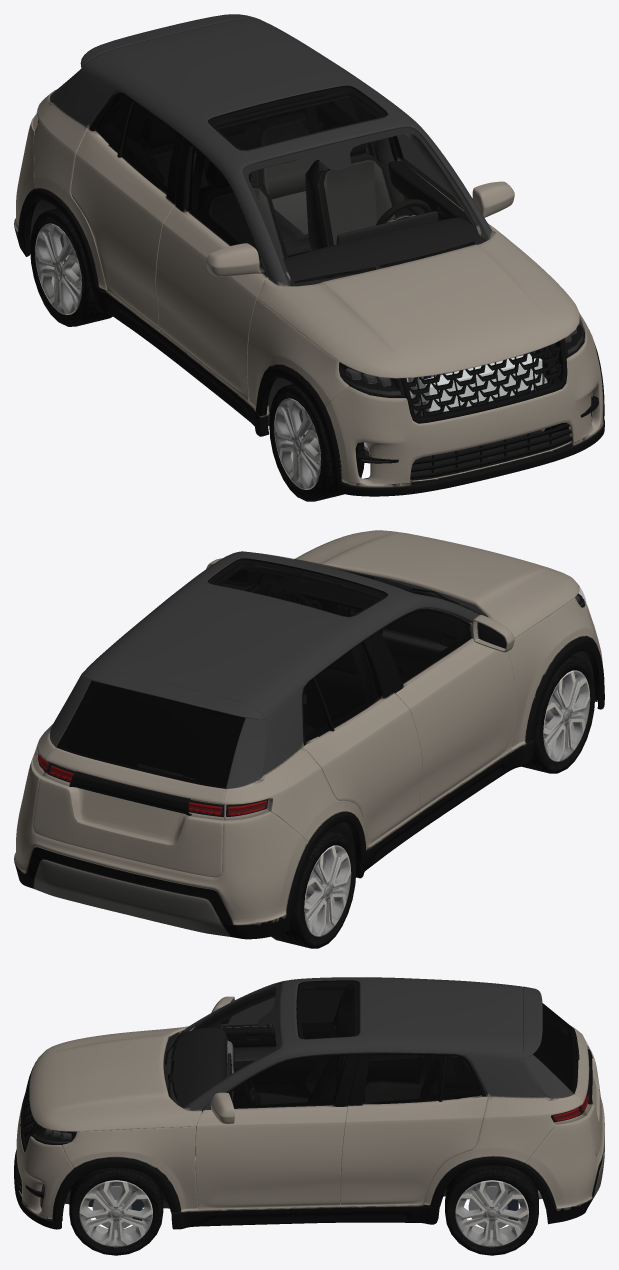
File: mmc-generic-small-suv.glb
3 renders of one model, top to bottom at view 1: azimuth 30°, elevation 25°; view 2: azimuth 150°, elevation 25°; view 3: azimuth 270°, elevation 25°, orthographic. The views are drawn at different scales.
Visible parts, largest first — view 1: chassis-sunroof, hood, glass-windshield, bumper-front, door-front-right, door-rear-right, dashboard, seat-rear, glass-sunroof, seat-front-left, fender-front-right, front-grille (+25 smaller); view 2: chassis-sunroof, bumper-rear, trunk, door-front-right, hood, glass-rear, door-rear-right, glass-sunroof, dashboard, fender-front-right, glass-door-front-right, glass-door-rear-right (+18 smaller); view 3: chassis-sunroof, door-front-left, door-rear-left, hood, glass-windshield, fender-front-left, bumper-rear, glass-door-front-left, dashboard, glass-door-rear-left, glass-sunroof, bumper-front (+28 smaller).
Boxes of the visible parts, x1,y1,x2,y2 form: chassis-sunroof: (34, 18, 493, 436); hood: (257, 225, 579, 378); glass-windshield: (243, 127, 487, 285); bumper-front: (325, 328, 604, 496); door-front-right: (155, 137, 268, 401); door-rear-right: (71, 92, 183, 331); dashboard: (283, 211, 486, 286); seat-rear: (131, 110, 322, 255); glass-sunroof: (207, 85, 387, 150); seat-front-left: (305, 122, 398, 250); fender-front-right: (247, 298, 349, 410); front-grille: (408, 345, 561, 418); chassis-sunroof: (34, 551, 534, 878); bumper-rear: (14, 754, 308, 939); trunk: (33, 747, 225, 877); door-front-right: (371, 607, 515, 811); hood: (294, 530, 579, 638); glass-rear: (56, 680, 245, 788); door-rear-right: (302, 635, 422, 847); glass-sunroof: (207, 558, 387, 616); dashboard: (266, 577, 467, 668); fender-front-right: (508, 597, 592, 750); glass-door-front-right: (380, 611, 471, 683); glass-door-rear-right: (315, 643, 380, 728); chassis-sunroof: (171, 977, 582, 1229); door-front-left: (195, 1053, 358, 1210); door-rear-left: (340, 1053, 487, 1206); hood: (29, 1026, 201, 1131); glass-windshield: (170, 983, 280, 1107); fender-front-left: (61, 1126, 198, 1211); bumper-rear: (525, 1045, 604, 1224); glass-door-front-left: (229, 1055, 345, 1108); dashboard: (170, 1027, 239, 1150); glass-door-rear-left: (363, 1054, 443, 1104); glass-sunroof: (296, 980, 359, 1039); bumper-front: (14, 1100, 73, 1229).
Size of the model in its own units: 1.95 by 1.56 by 4.19.
16 materials, 6 textured.
